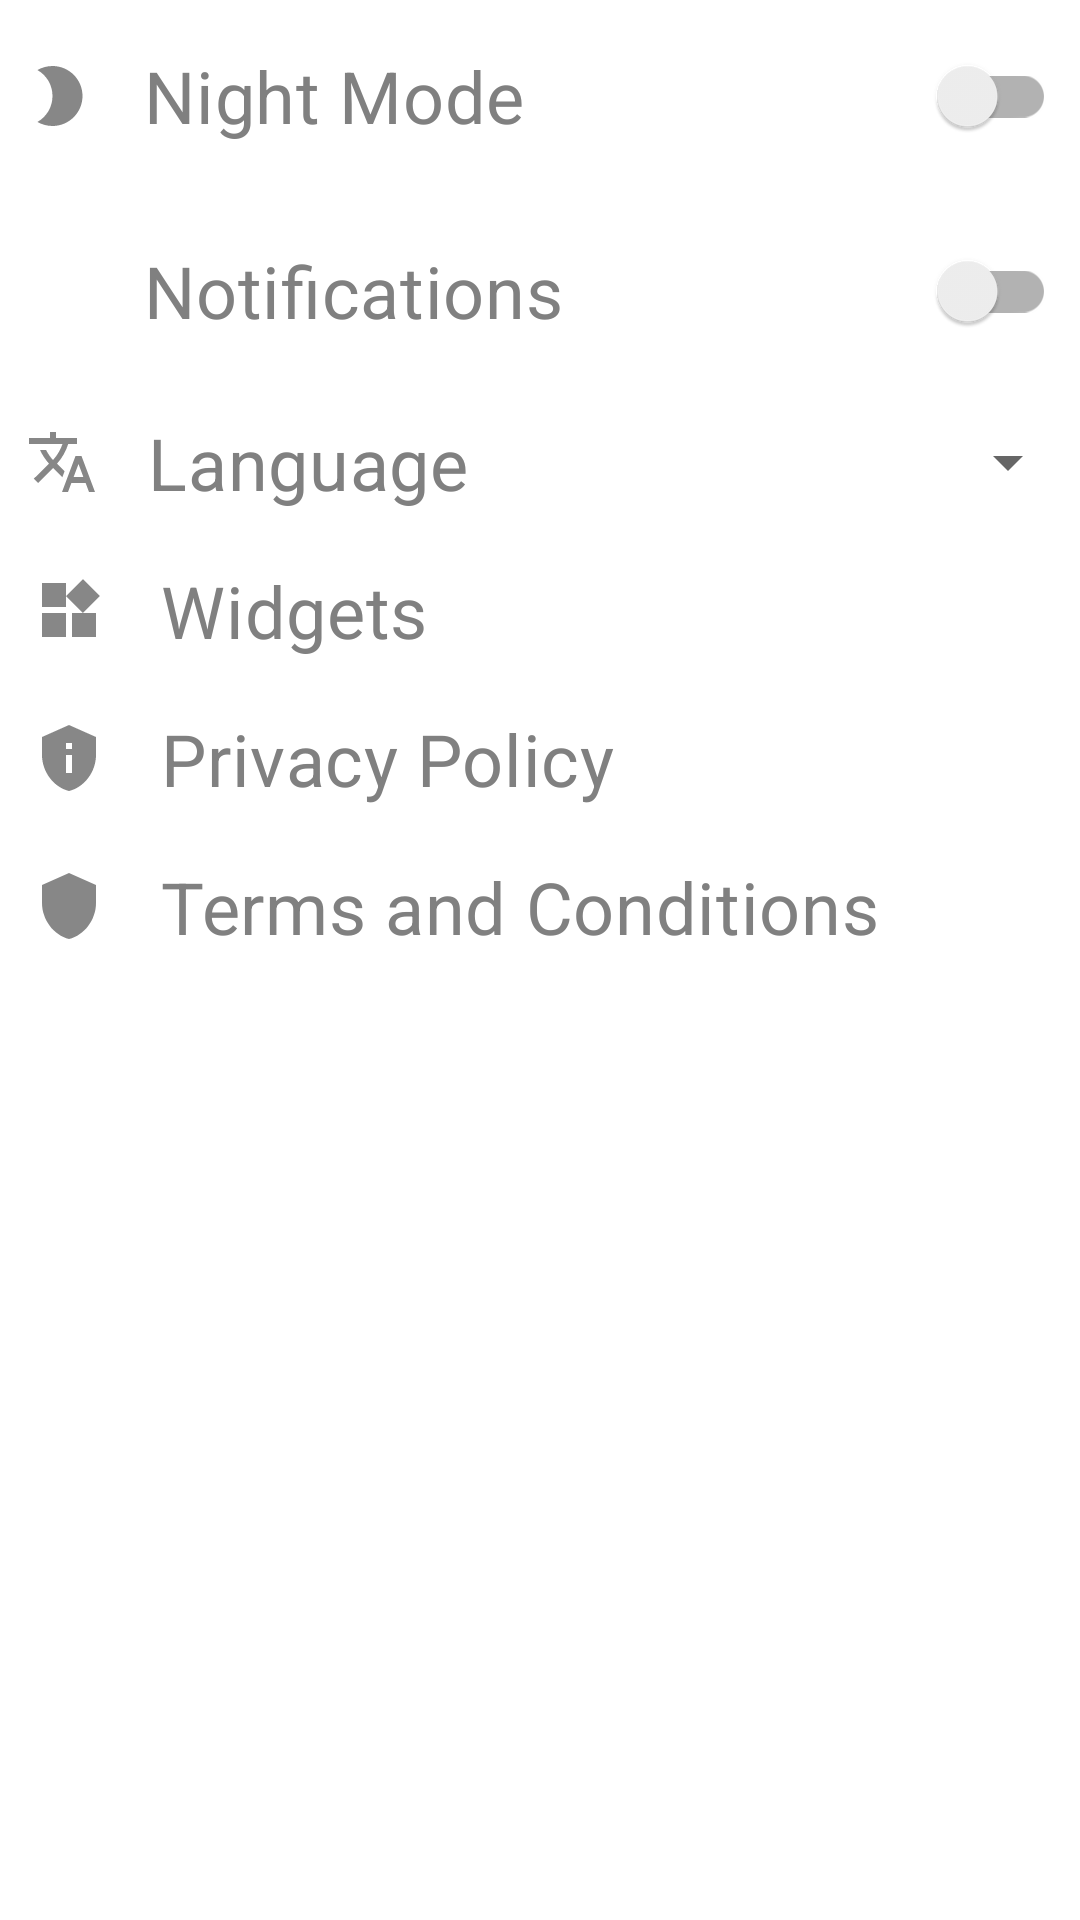

Named icons in this screenshot (1080px×1920px) and their centers, point (x, y):
night settings: point (60, 96)
privacy settings: point (69, 758)
